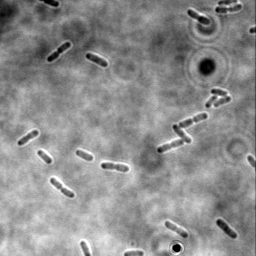Dividing: (48, 175, 76, 200), (44, 40, 73, 64), (177, 112, 210, 130), (163, 219, 189, 239), (156, 138, 186, 155), (16, 127, 41, 147), (186, 8, 212, 27), (100, 160, 131, 175), (214, 3, 244, 15)
Rod: (215, 217, 239, 240), (171, 123, 193, 145), (84, 51, 109, 69), (36, 148, 54, 166), (74, 148, 95, 163), (214, 95, 233, 108), (204, 93, 217, 110), (210, 87, 231, 97), (121, 247, 147, 255)
